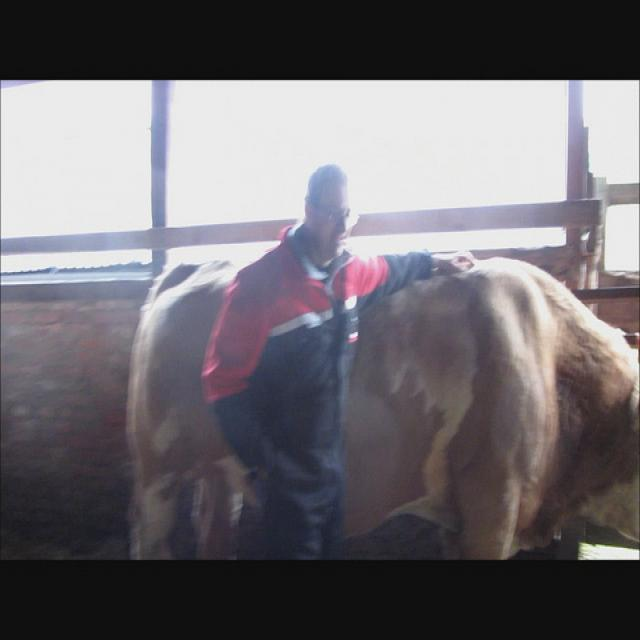cow: (126, 255, 637, 561)
